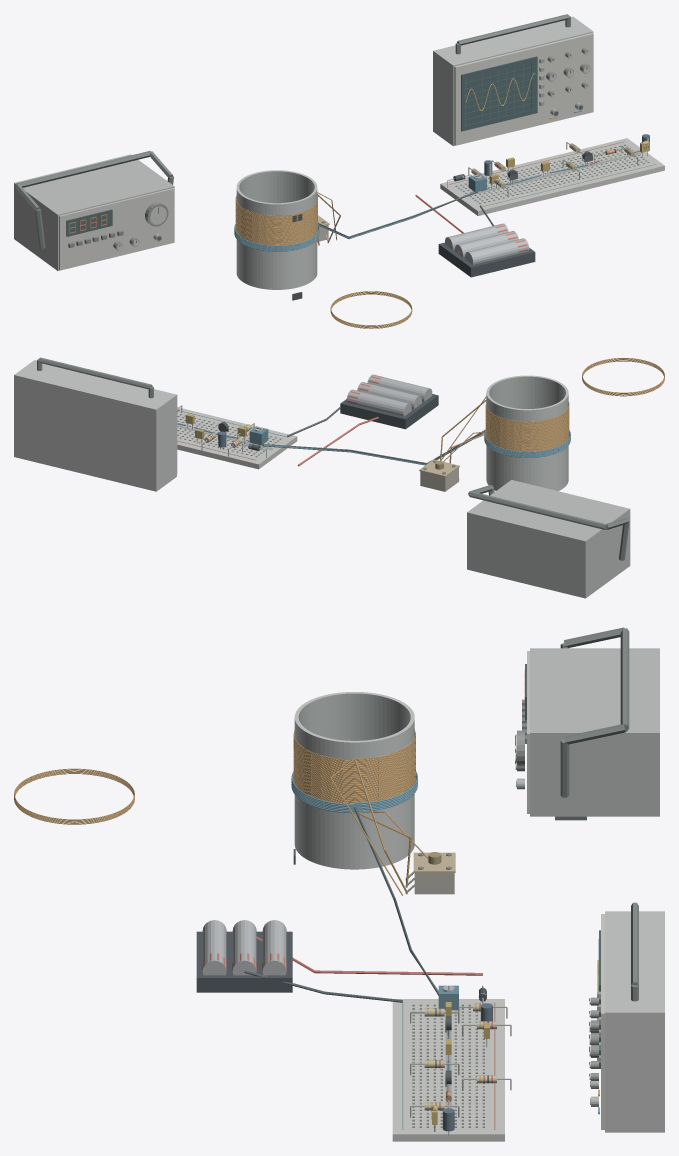
File: radio-assembly.glb
3 renders of one model, top to bottom at view 1: azimuth 30°, elevation 25°; view 2: azimuth 150°, elevation 25°; view 3: azimuth 270°, elevation 25°, orthographic. The views are drawn at different scales.
Visible parts, largest first — view 1: oscilloscope, generator, coil, breadboard, battery, connections, test-loop, link; view 2: oscilloscope, generator, coil, battery, breadboard, connections, tuning-capacitor, test-loop, link; view 3: generator, coil, oscilloscope, breadboard, battery, connections, tuning-capacitor, test-loop, link.
Part boxes in pixels (bbox=[...]): oscilloscope: bbox=[433, 14, 593, 146]; generator: bbox=[14, 151, 174, 270]; coil: bbox=[235, 170, 336, 300]; breadboard: bbox=[440, 138, 664, 215]; battery: bbox=[438, 223, 535, 277]; connections: bbox=[317, 150, 639, 253]; test-loop: bbox=[330, 291, 412, 328]; link: bbox=[234, 224, 319, 251]; oscilloscope: bbox=[14, 357, 177, 491]; generator: bbox=[467, 480, 630, 598]; coil: bbox=[441, 375, 569, 491]; battery: bbox=[340, 374, 438, 429]; breadboard: bbox=[177, 407, 297, 469]; connections: bbox=[177, 399, 486, 466]; tuning-capacitor: bbox=[419, 459, 459, 491]; test-loop: bbox=[582, 358, 664, 396]; link: bbox=[484, 430, 570, 457]; generator: bbox=[515, 627, 659, 820]; coil: bbox=[293, 692, 428, 895]; oscilloscope: bbox=[589, 902, 664, 1132]; breadboard: bbox=[392, 999, 504, 1141]; battery: bbox=[196, 920, 292, 992]; connections: bbox=[244, 758, 482, 1089]; tuning-capacitor: bbox=[405, 852, 455, 894]; test-loop: bbox=[14, 768, 134, 824]; link: bbox=[291, 771, 417, 813].
Bounding box in the file's own units: 0.4922 × 0.0872 × 0.3252.
